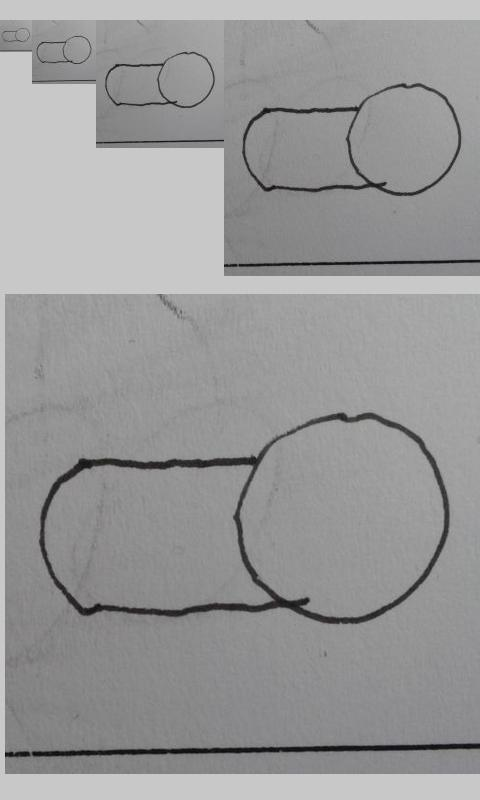switch: (37, 411, 450, 626), (242, 83, 463, 197), (104, 51, 216, 109), (36, 35, 92, 64), (1, 27, 31, 43)
